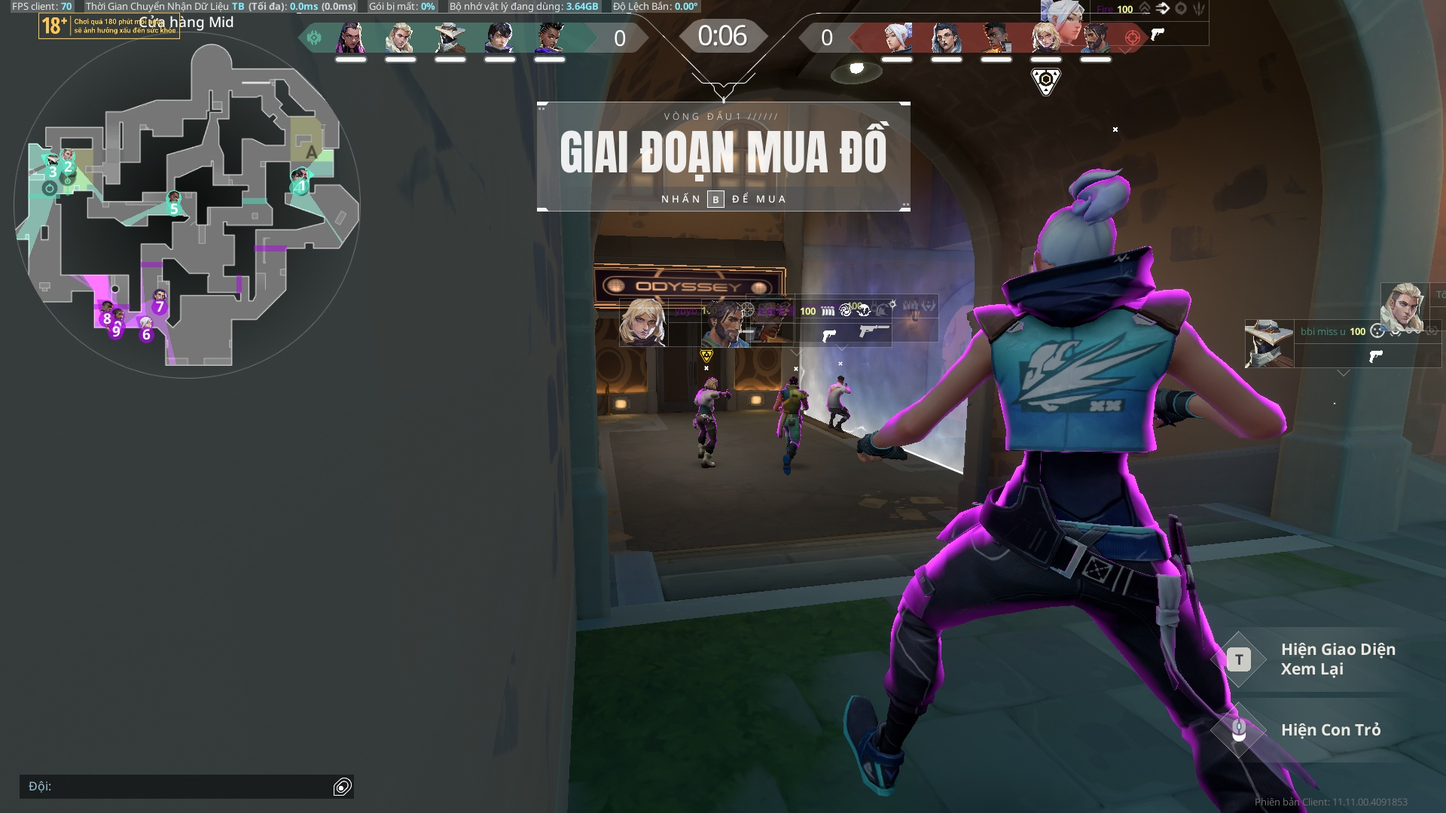body: (991, 276, 1168, 455), (778, 387, 806, 415), (696, 389, 717, 411), (828, 382, 844, 403)
head: (1033, 206, 1127, 279), (787, 374, 800, 388), (705, 376, 718, 388), (837, 375, 844, 383)
